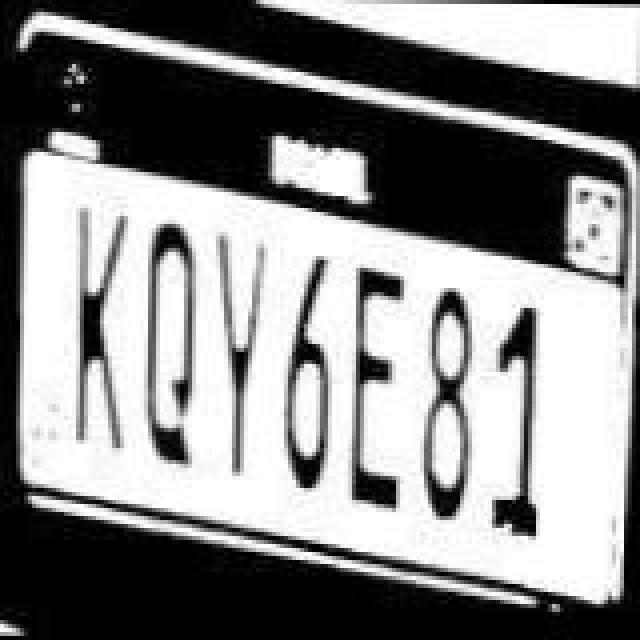1: (490, 304, 550, 536)
6: (274, 250, 338, 494)
8: (418, 284, 478, 520)
E: (348, 258, 412, 514)
K: (66, 202, 138, 454)
Q: (142, 218, 206, 466)
Y: (206, 232, 270, 484)
